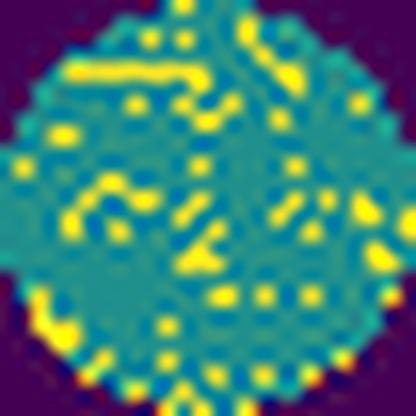Scratch: (59, 57, 249, 135)
